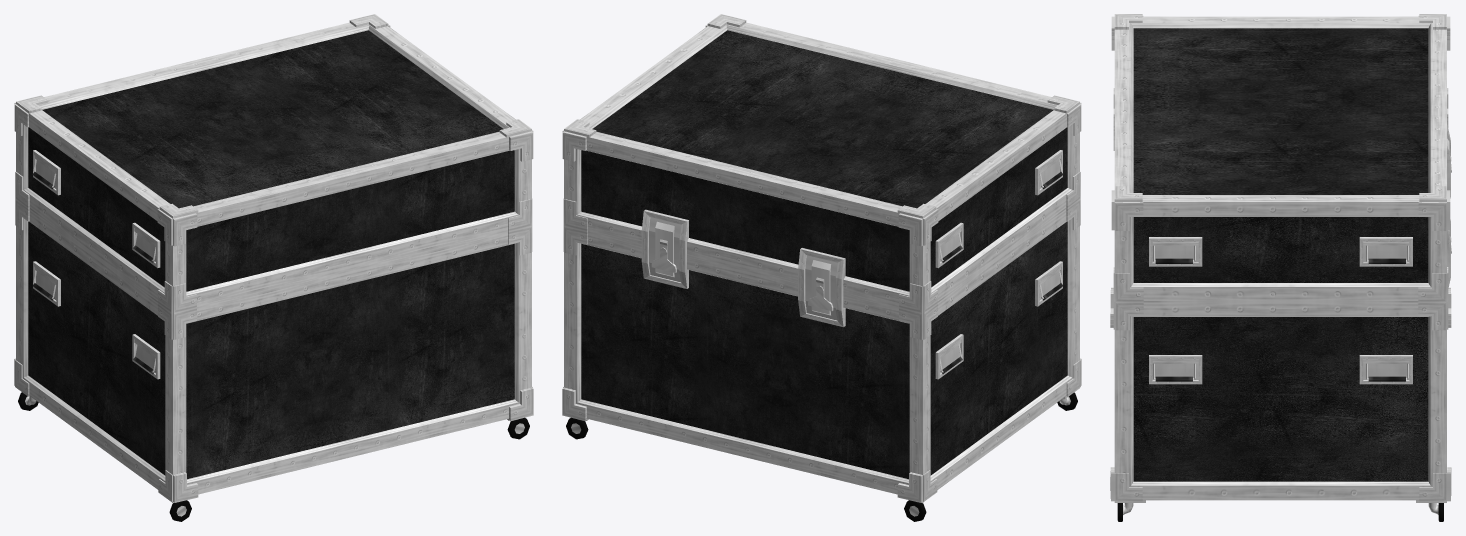
Rendered from w_flight_case_big_2.fbx.
3 views of the same model, side by side, from view 1: azimuth 30°, elevation 25°; view 2: azimuth 150°, elevation 25°; view 3: azimuth 270°, elevation 25° (orthographic). The views are drawn at different scales.
Visible parts, largest first — view 1: w_flight_case_big_2; view 2: w_flight_case_big_2; view 3: w_flight_case_big_2.
Part boxes in pixels (left/top/right/bottom): w_flight_case_big_2: left=14, top=14, right=533, bottom=521; w_flight_case_big_2: left=562, top=14, right=1081, bottom=521; w_flight_case_big_2: left=1110, top=14, right=1451, bottom=521.
Size of the model in its own units: 1.65 by 1.33 by 1.26.
